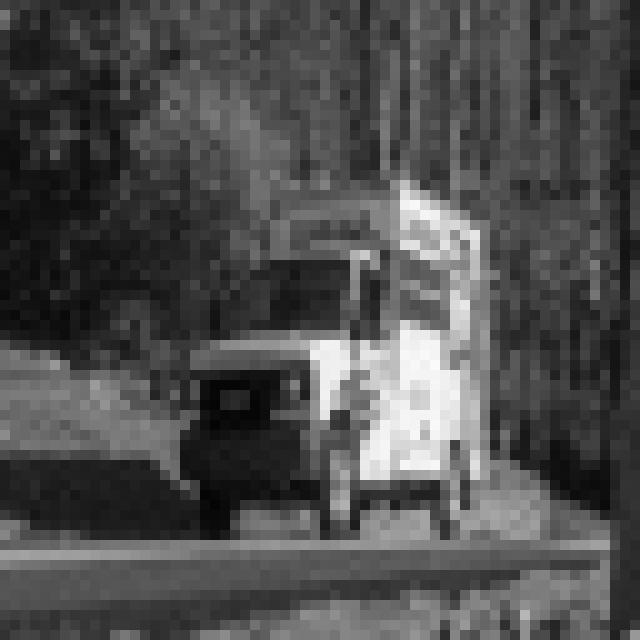trucks: (181, 165, 504, 547)
